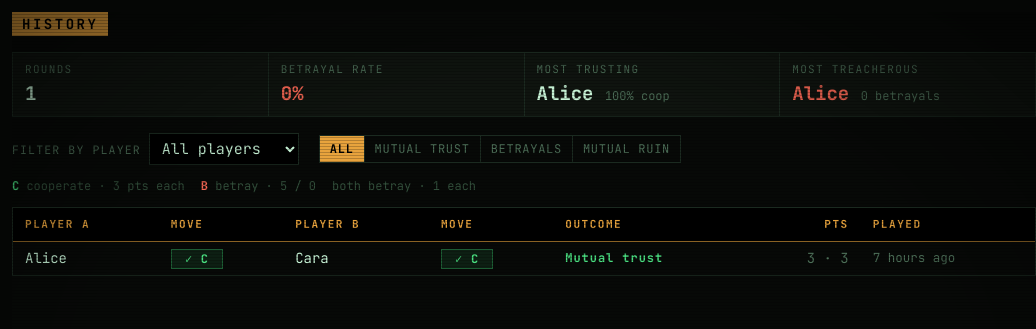
Test: HistoryPage › shows an empty state when no rows match the filter
Expected: the text "Mutual trust" is shown, [553,241,753,274]
Click the button "betrayals". click: x=527, y=149
box: [481,136,573,162]
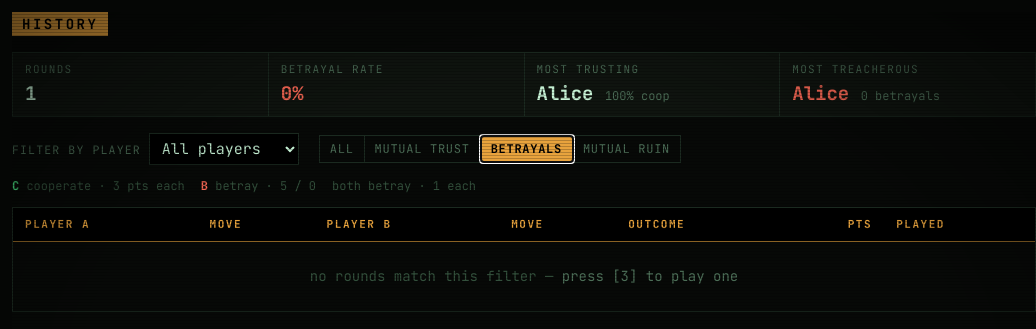
Now the text "no rounds match this filter — press [3] to play one" is shown, box [13,241,1035,310]
Now the text "press [3] to play one" is shown, box [562,266,738,284]
